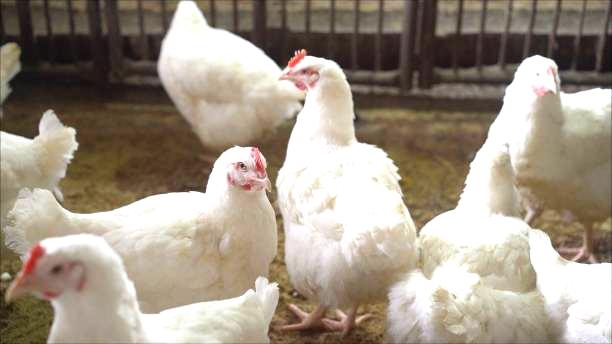Healthy: (272, 28, 429, 342)
